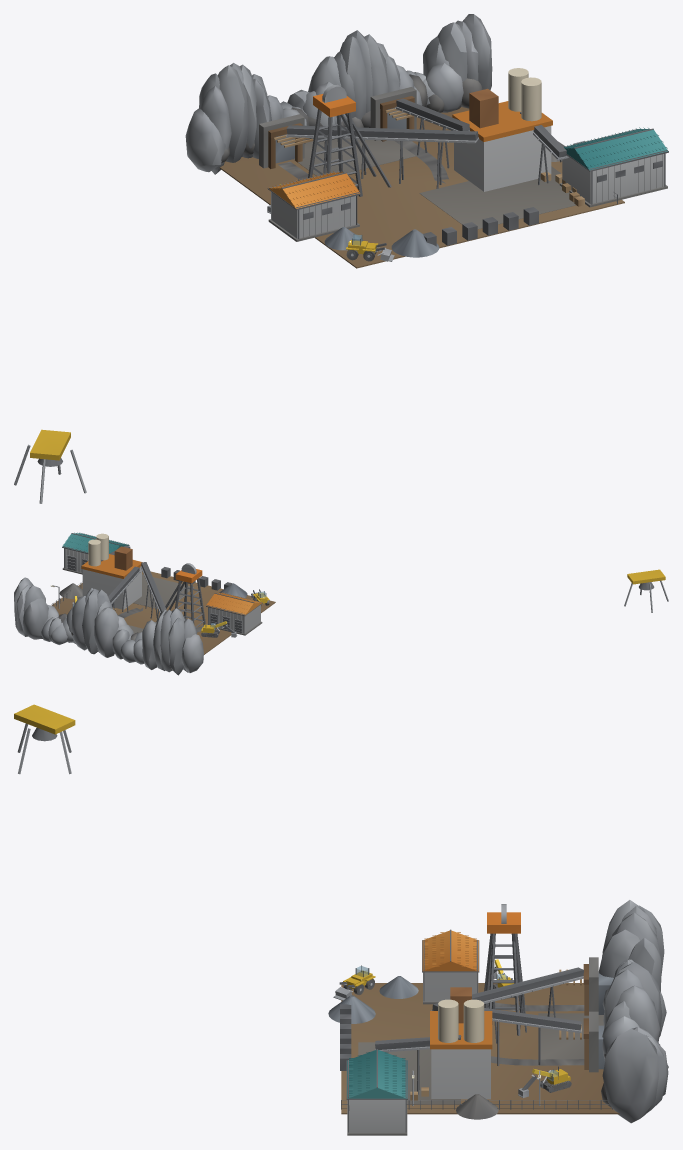
Rendered from Mine_P2.fbx.
3 views of the same model, one above another, from view 1: azimuth 30°, elevation 25°; view 2: azimuth 150°, elevation 25°; view 3: azimuth 270°, elevation 25° (orthographic). The views are drawn at different scales.
Visible parts, largest first — view 1: Mine.Cliff, Mine.Apron, Mine.Plant, Mine.Crusher, Mine.Winder, Mine.Headframe, Mine.Conv0, Mine.Adit0, Mine.Clutter, Mine.LoadGantry, Mine.Adit1, Mine.Conv1 (+3 smaller); view 2: Mine.Cliff, Mine.Apron, Mine.Plant, Mine.Winder, Mine.Headframe, Mine.Crusher, Mine.LoadGantry, Mine.Conv0, Mine.Conv1, Mine.Clutter, Mine.Excav, Mine.Spoil2; view 3: Mine.Apron, Mine.Cliff, Mine.Plant, Mine.Crusher, Mine.Winder, Mine.Headframe, Mine.Conv0, Mine.LoadGantry, Mine.Conv1, Mine.Adit1, Mine.Adit0, Mine.Clutter (+7 smaller).
Part boxes in pixels (x1,y1,x2,y2): Mine.Cliff: [185, 14, 492, 174]; Mine.Apron: [219, 107, 624, 268]; Mine.Plant: [452, 68, 552, 191]; Mine.Crusher: [559, 127, 668, 207]; Mine.Winder: [267, 171, 360, 241]; Mine.Headframe: [308, 84, 391, 196]; Mine.Conv0: [286, 125, 478, 188]; Mine.Adit0: [259, 114, 313, 168]; Mine.Clutter: [423, 172, 584, 246]; Mine.LoadGantry: [14, 429, 86, 503]; Mine.Adit1: [370, 87, 416, 141]; Mine.Conv1: [394, 98, 469, 168]; Mine.Cliff: [14, 577, 203, 675]; Mine.Apron: [51, 571, 275, 654]; Mine.Plant: [81, 533, 142, 609]; Mine.Winder: [206, 592, 262, 635]; Mine.Headframe: [165, 563, 205, 627]; Mine.Crusher: [62, 532, 129, 574]; Mine.LoadGantry: [624, 569, 668, 612]; Mine.Conv0: [140, 562, 166, 621]; Mine.Conv1: [108, 566, 140, 612]; Mine.Clutter: [161, 567, 232, 590]; Mine.Excav: [201, 621, 237, 637]; Mine.Spoil2: [59, 583, 82, 598]; Mine.Apron: [341, 983, 619, 1114]; Mine.Cliff: [598, 900, 668, 1123]; Mine.Plant: [430, 987, 492, 1099]; Mine.Crusher: [346, 1049, 407, 1135]; Mine.Winder: [422, 929, 479, 1004]; Mine.Headframe: [484, 904, 524, 1035]; Mine.Conv0: [431, 967, 583, 1043]; Mine.LoadGantry: [14, 704, 75, 774]; Mine.Conv1: [484, 1008, 581, 1065]; Mine.Adit1: [559, 1011, 604, 1072]; Mine.Adit0: [559, 957, 613, 1015]; Mine.Clutter: [340, 1004, 428, 1100].
Bounding box in the file's own units: 21374 × 3114 × 15305.
